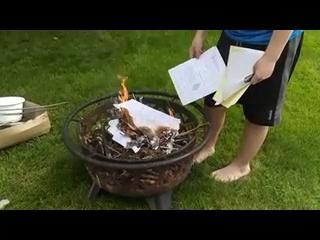Fire: (107, 75, 145, 141)
